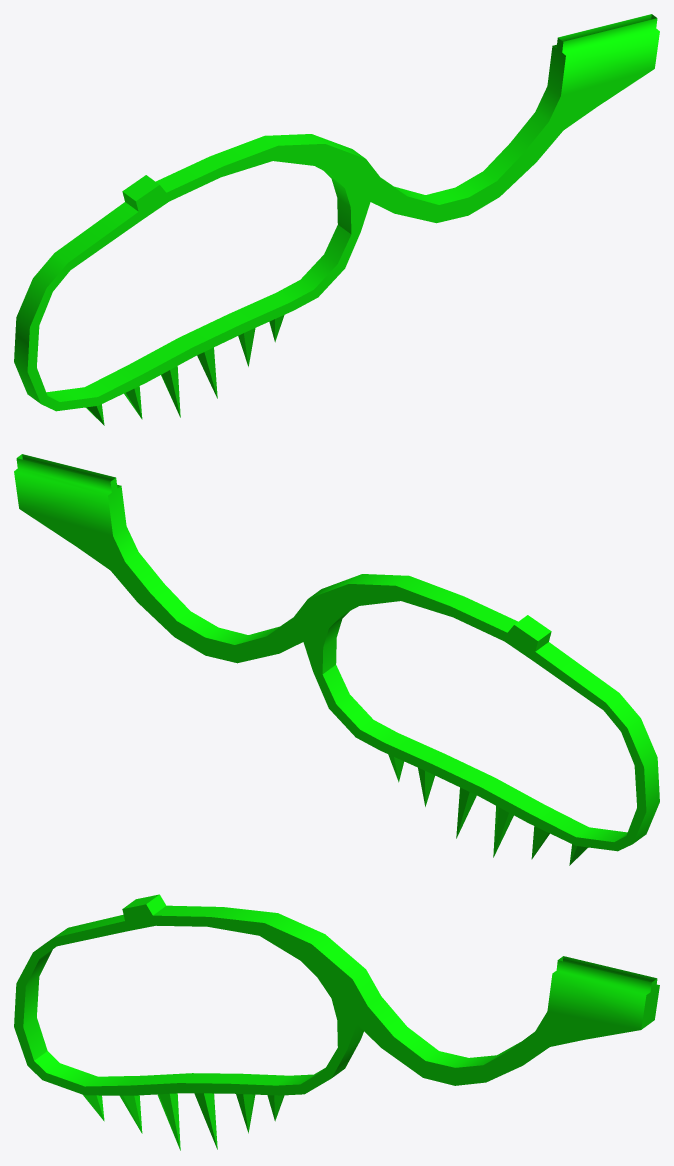
File: Reload.FBX
3 views of the same model, one above another, from view 1: azimuth 30°, elevation 25°; view 2: azimuth 150°, elevation 25°; view 3: azimuth 330°, elevation 25° (orthographic).
Visible parts, largest first — view 1: reload; view 2: reload; view 3: reload.
Boxes of the visible parts, x1,y1,x2,y2 form: reload: (14,14,659,425); reload: (14,454,659,865); reload: (14,894,659,1150).
Size of the model in its own units: 62.6 by 27.07 by 2.32.
